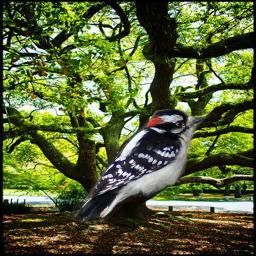Woodpecker: (72, 109, 206, 222)
